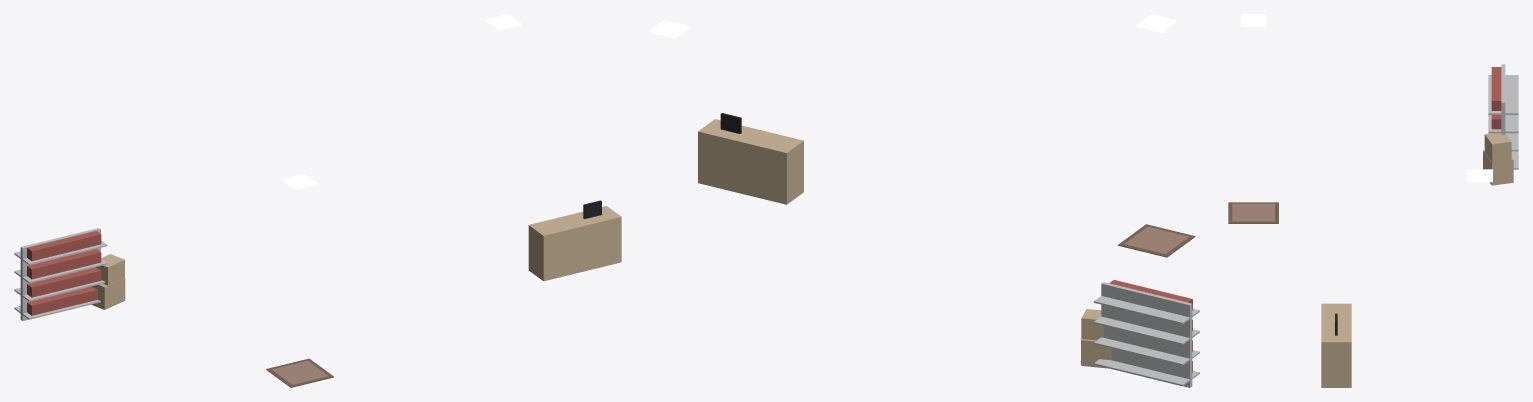
Rendered from fine-s0.glb.
3 renders of one model, left to right at view 1: azimuth 30°, elevation 25°; view 2: azimuth 150°, elevation 25°; view 3: azimuth 270°, elevation 25°, orthographic. The views are drawn at different scales.
Parts seen in each view (by area): view 1: shelving.000, shop-counter.000, cardboard-box.000, soft-s0; view 2: shelving.000, shop-counter.000, soft-s0, cardboard-box.000, ceiling-lamp.001, ceiling-lamp.000; view 3: shop-counter.000, shelving.000, cardboard-box.000, soft-s0, ceiling-lamp.001, ceiling-lamp.000.
Boxes of the visible parts, x1,y1,x2,y2 form: shelving.000: (14, 228, 107, 320); shop-counter.000: (528, 200, 621, 281); cardboard-box.000: (91, 254, 125, 309); soft-s0: (266, 358, 333, 387); shelving.000: (1094, 280, 1199, 387); shop-counter.000: (698, 113, 803, 204); soft-s0: (1117, 224, 1195, 257); cardboard-box.000: (1081, 309, 1111, 368); ceiling-lamp.001: (650, 20, 688, 38); ceiling-lamp.000: (1137, 14, 1175, 32); shop-counter.000: (1321, 303, 1351, 387); shelving.000: (1488, 64, 1518, 169); cardboard-box.000: (1483, 133, 1513, 185); soft-s0: (1228, 202, 1278, 223); ceiling-lamp.001: (1467, 169, 1492, 182); ceiling-lamp.000: (1241, 14, 1266, 26).
Bounding box in the file's own units: 11.73 × 4.24 × 5.74.
